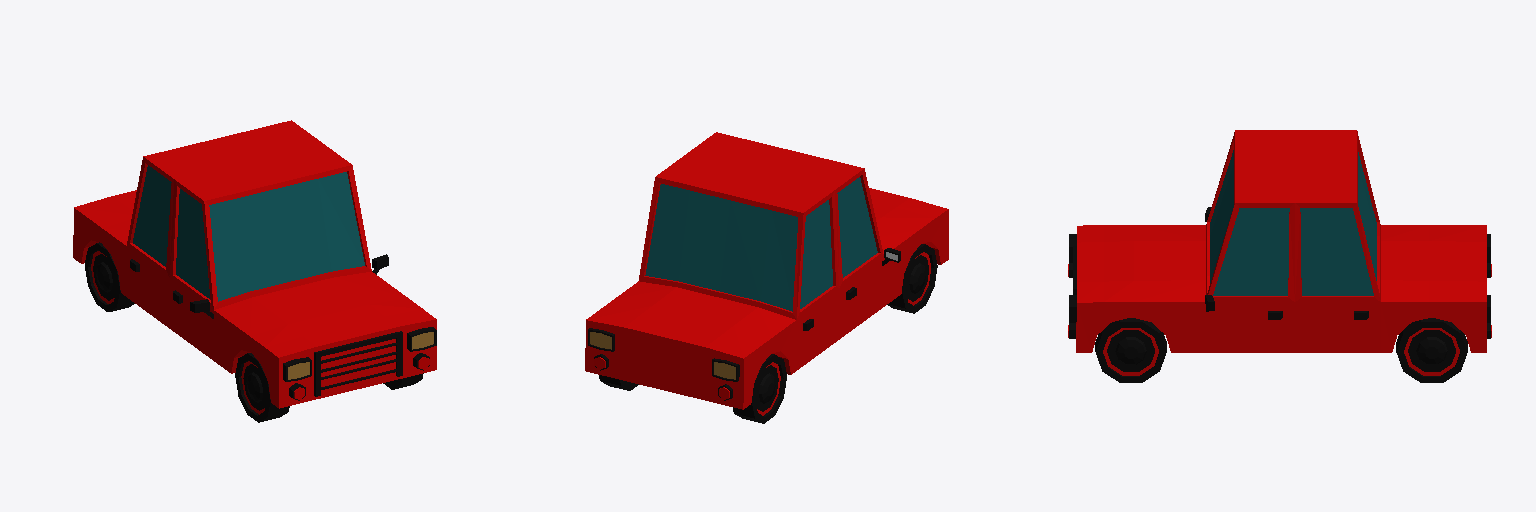
File: car4.obj
3 renders of one model, left to right at view 1: azimuth 30°, elevation 25°; view 2: azimuth 150°, elevation 25°; view 3: azimuth 270°, elevation 25°, orthographic.
Parts seen in each view (by area): view 1: Cube; view 2: Cube; view 3: Cube.
Boxes of the visible parts, <box> form: Cube: <box>73,120,436,422</box>; Cube: <box>585,132,948,423</box>; Cube: <box>1068,130,1491,382</box>.
Size of the model in its own units: 3.39 by 2.95 by 6.35.